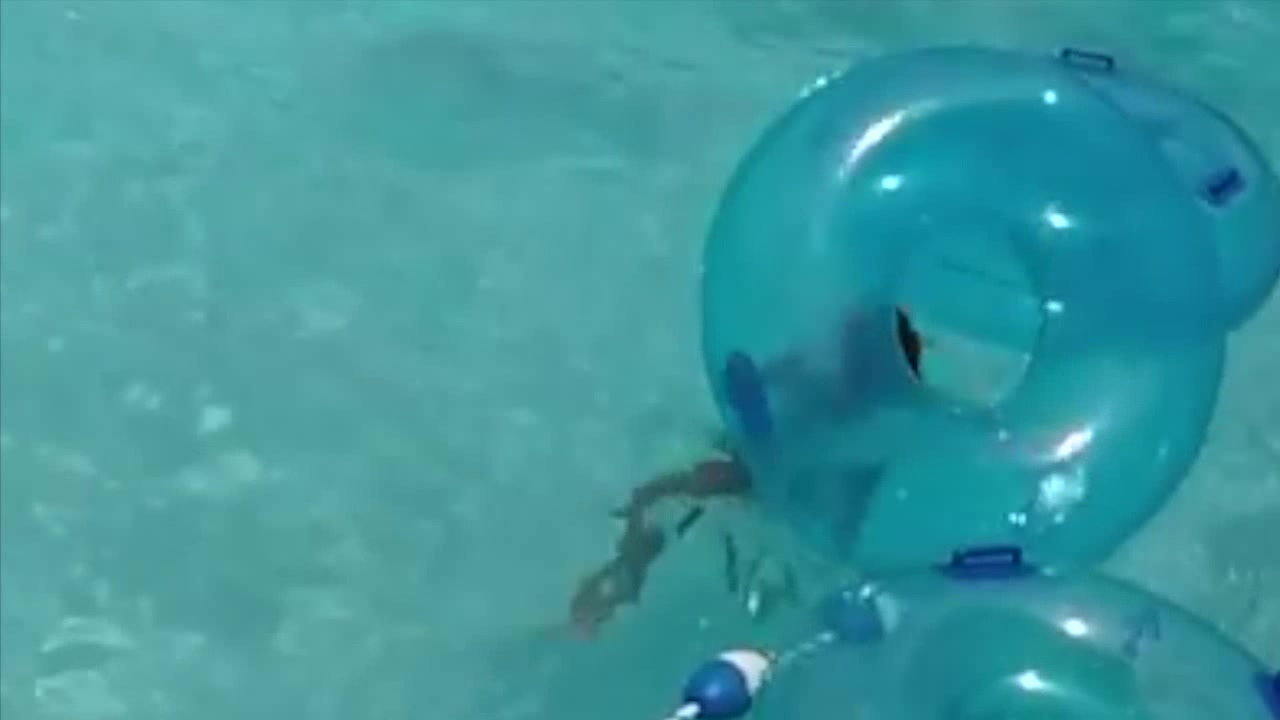Drowning: (648, 288, 941, 581)
